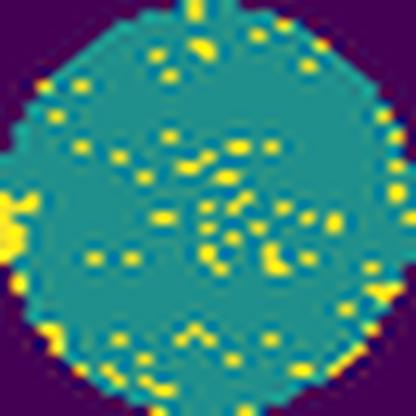Edge-Loc: (0, 185, 45, 266)
